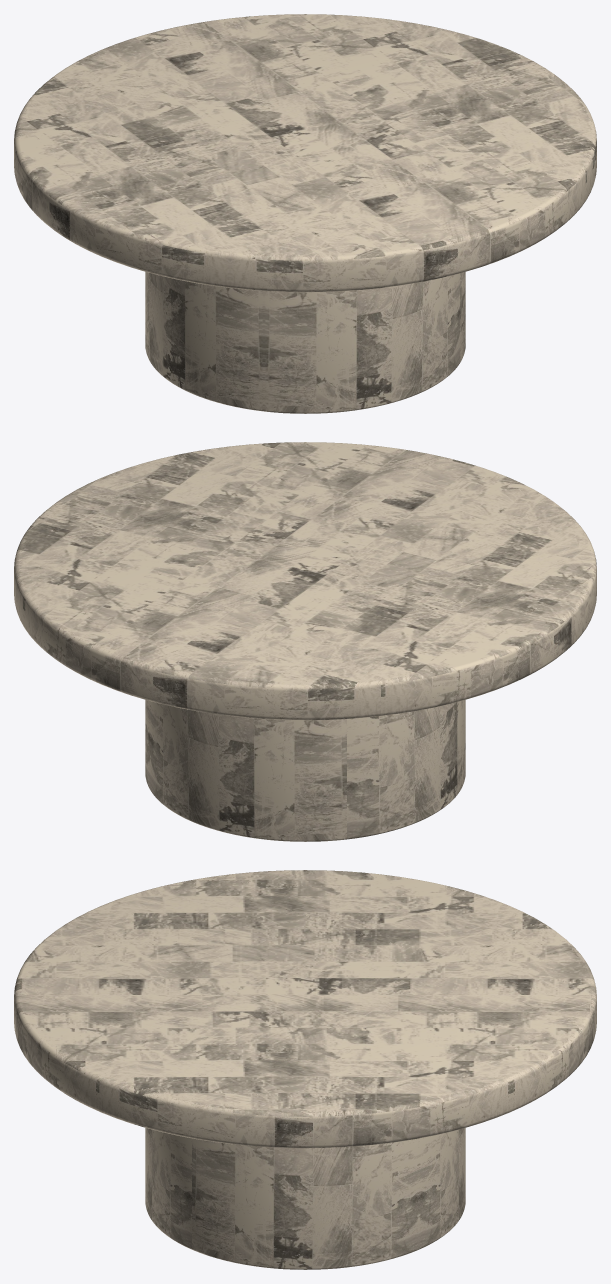
File: coffee-travertine.glb
3 renders of one model, top to bottom at view 1: azimuth 30°, elevation 25°; view 2: azimuth 150°, elevation 25°; view 3: azimuth 270°, elevation 25°, orthographic.
Visible parts, largest first — view 1: top, pedestal; view 2: top, pedestal; view 3: top, pedestal.
Boxes of the visible parts, x1,y1,x2,y2 form: top: (14, 14, 596, 292); pedestal: (145, 272, 465, 413); top: (14, 442, 596, 720); pedestal: (145, 700, 465, 841); top: (14, 870, 596, 1148); pedestal: (145, 1128, 465, 1269).
Size of the model in its own units: 0.9 by 0.36 by 0.9.
1 material, 1 textured.
